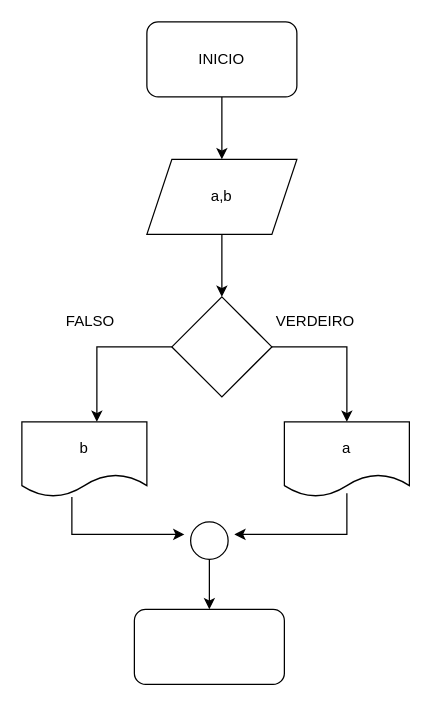
Image size: 431x706. Some labels were removed from this diagram. The centre of each missing label's shape, as x and y in pixels:
"a>b" goes at (221,346).
"FIM" goes at (208,646).
